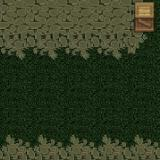Hide: (121, 0, 160, 41)
